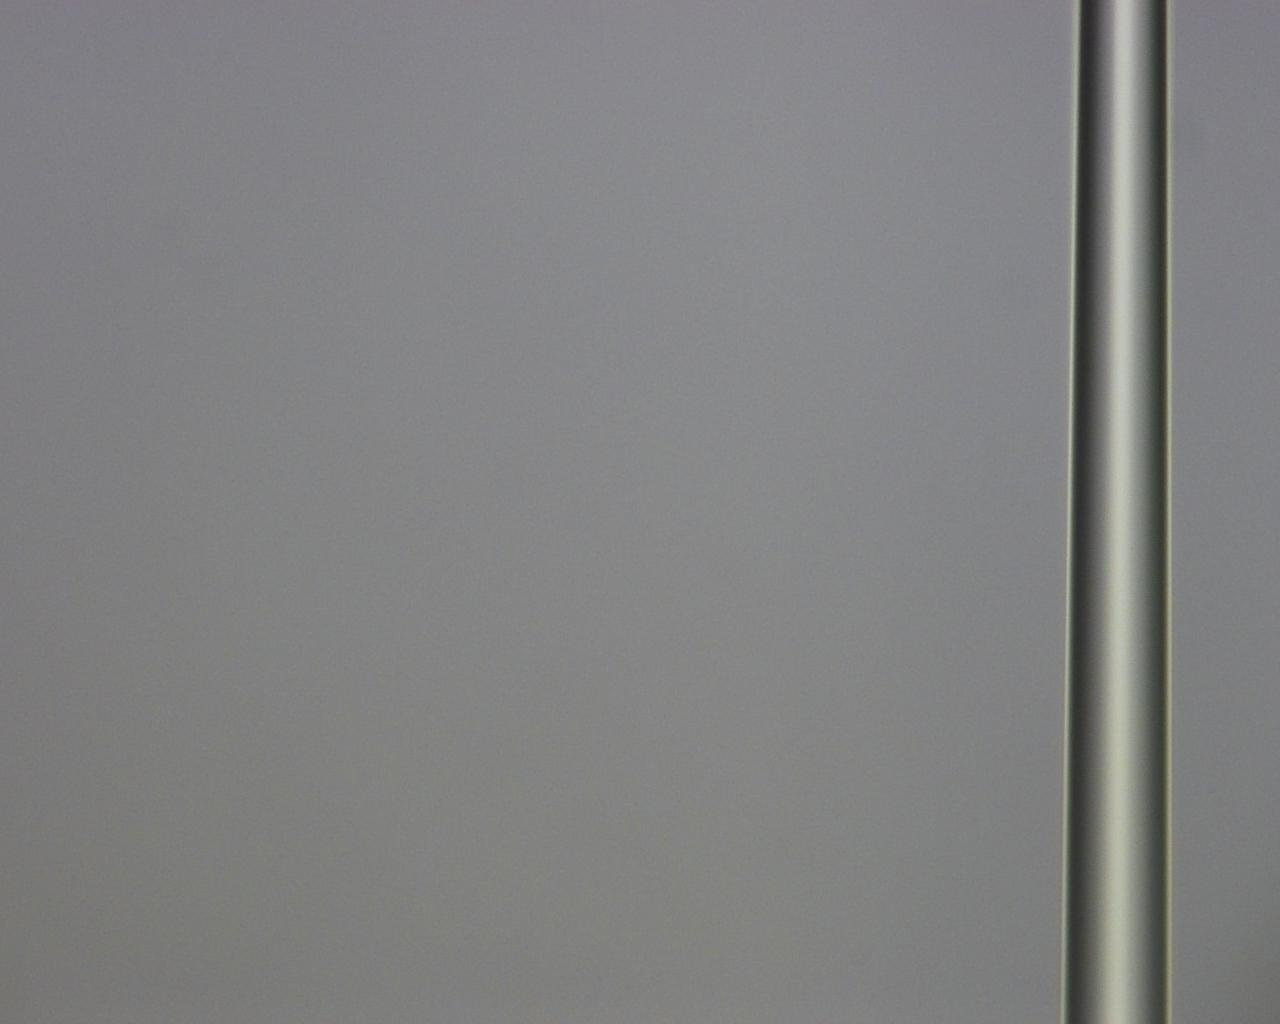fiber: (0, 0, 245, 428), (1224, 532, 1280, 1024)
